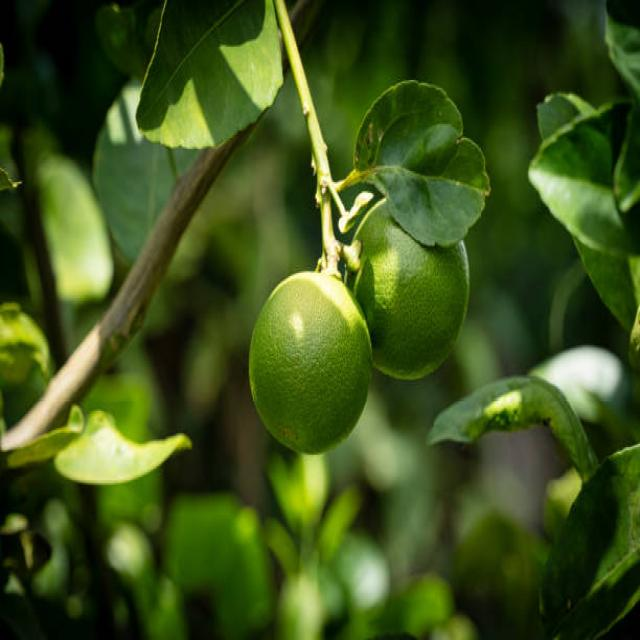Unripe: (347, 191, 469, 382), (248, 267, 372, 454)
